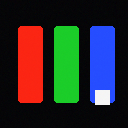1 square: (95, 90, 109, 104)
